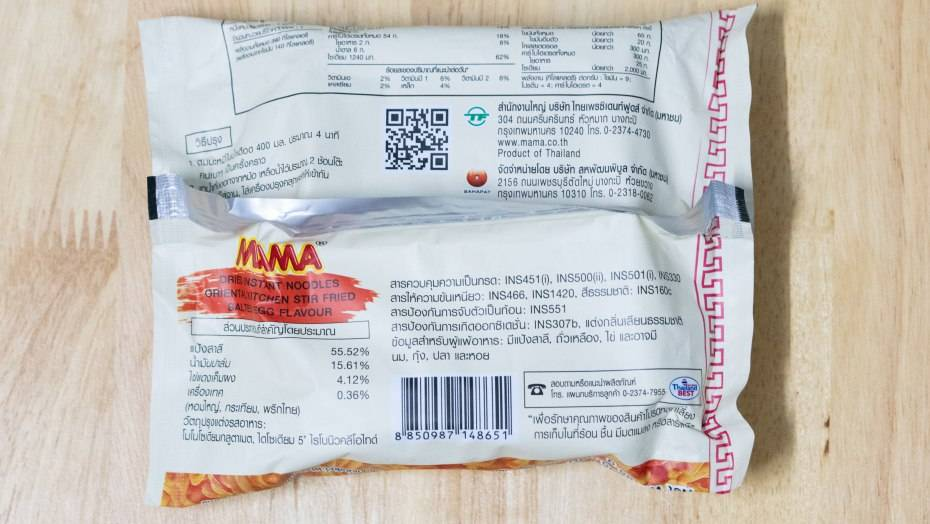Snack: (123, 1, 773, 516)
